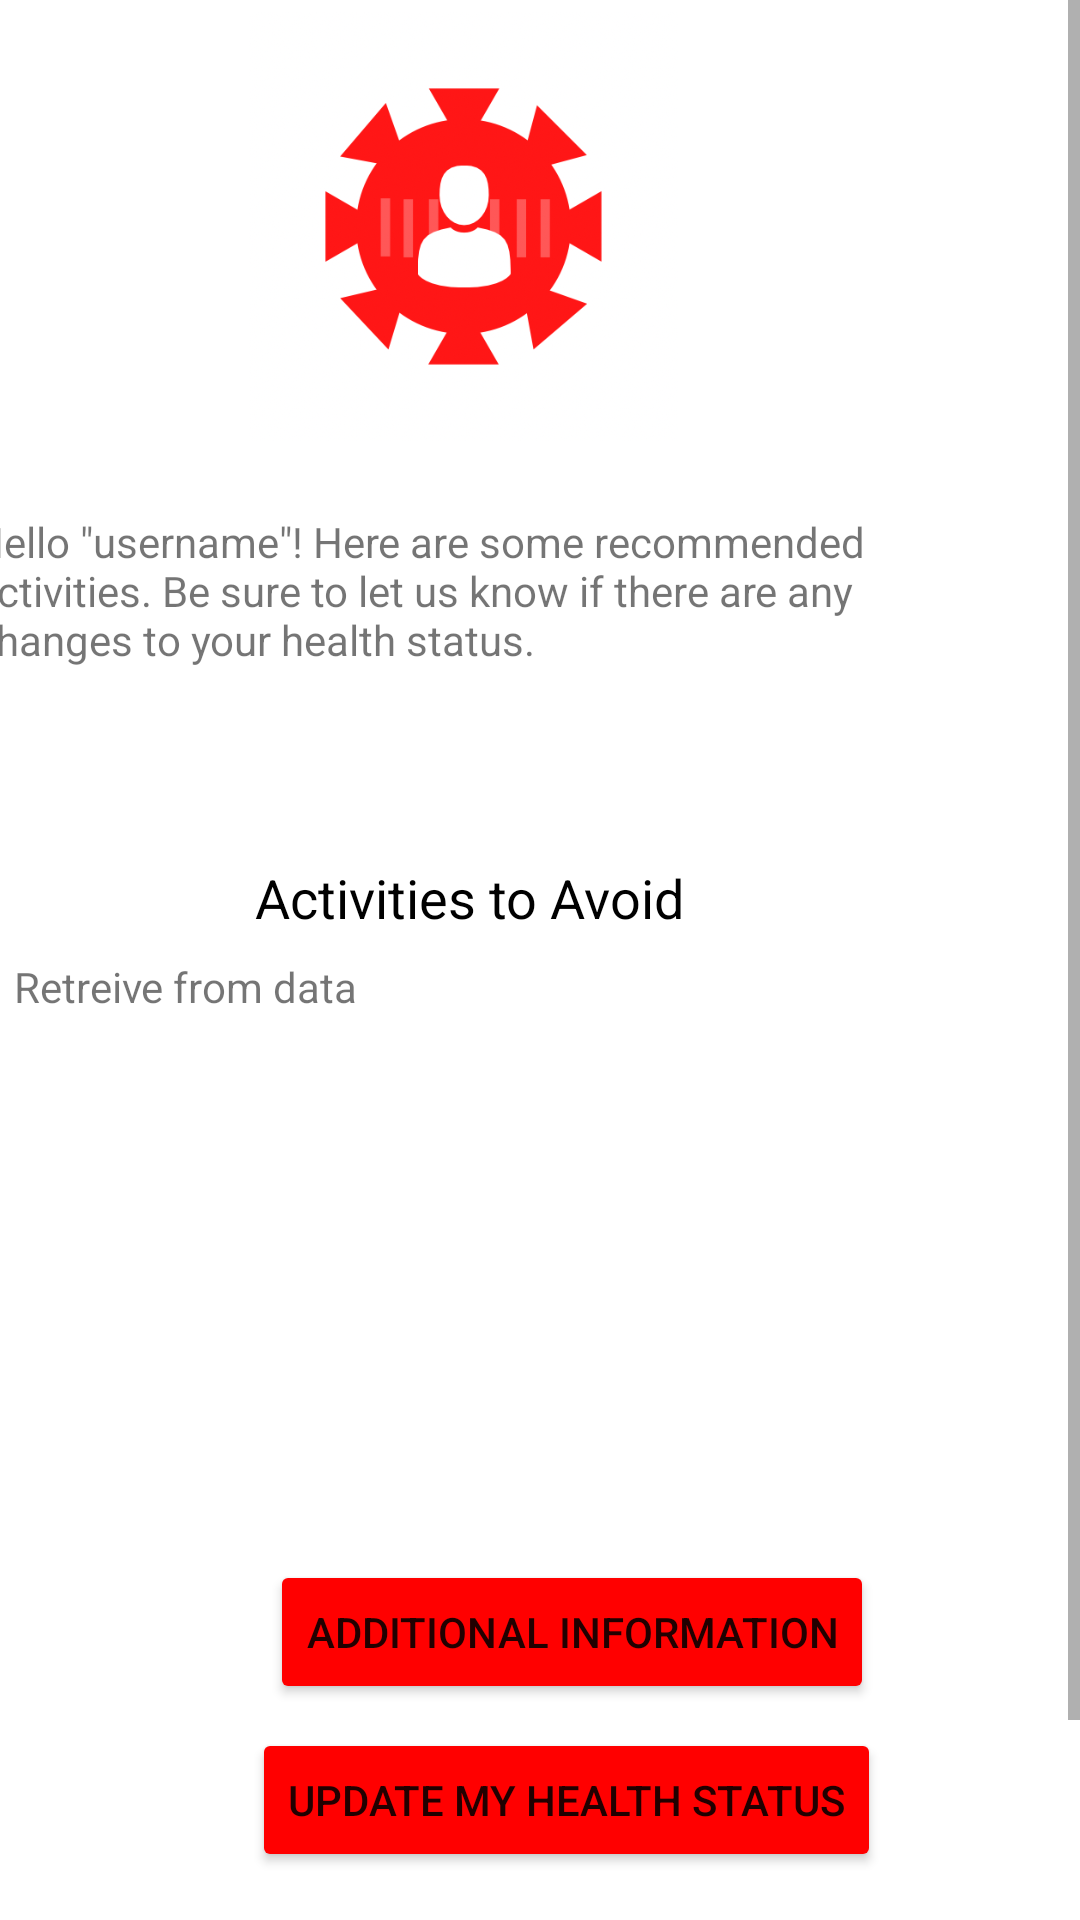

Icon click points for this 1080x1920 phone screenshot, format (x,y):
covid: (463,226)
